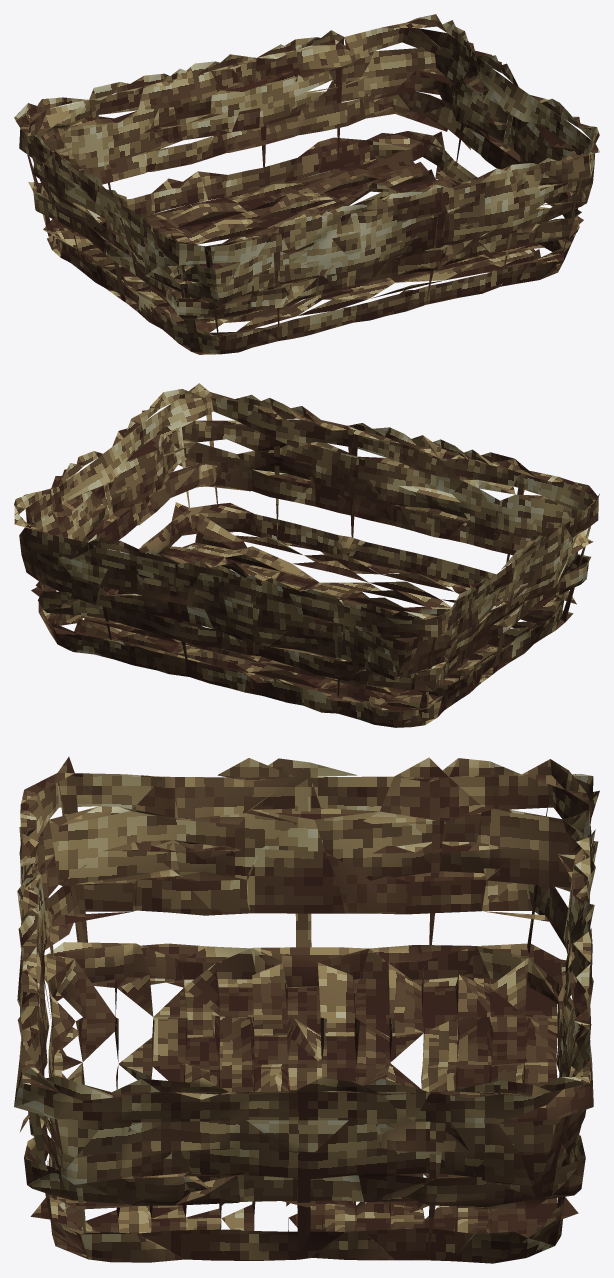
Rendered from basket.glb.
The picture shows the model from 3 angles, top to bottom: view 1: azimuth 30°, elevation 25°; view 2: azimuth 150°, elevation 25°; view 3: azimuth 270°, elevation 25°; orthographic projection. The views are drawn at different scales.
Parts seen in each view (by area): view 1: mesh; view 2: mesh; view 3: mesh.
Boxes of the visible parts, box(x1,y1,x2,y2) form: mesh: box(14, 14, 599, 354); mesh: box(14, 383, 599, 727); mesh: box(14, 757, 599, 1263).
Size of the model in its own units: 0.3967 by 0.1174 by 0.2991.
Materials: 1 (1 with a texture image).
